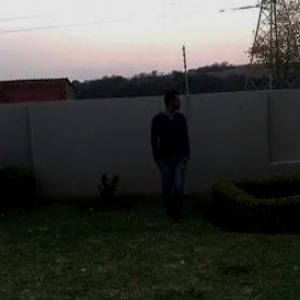follow: (148, 77, 199, 255)
